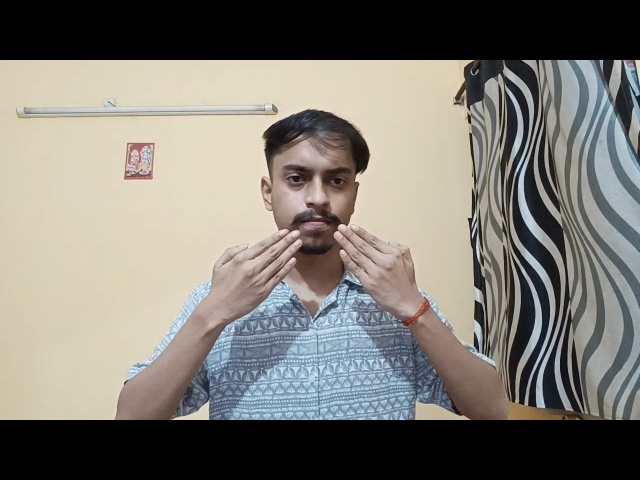Thank you: (148, 202, 466, 397)
